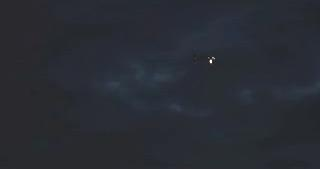Plane: (201, 53, 223, 68)
